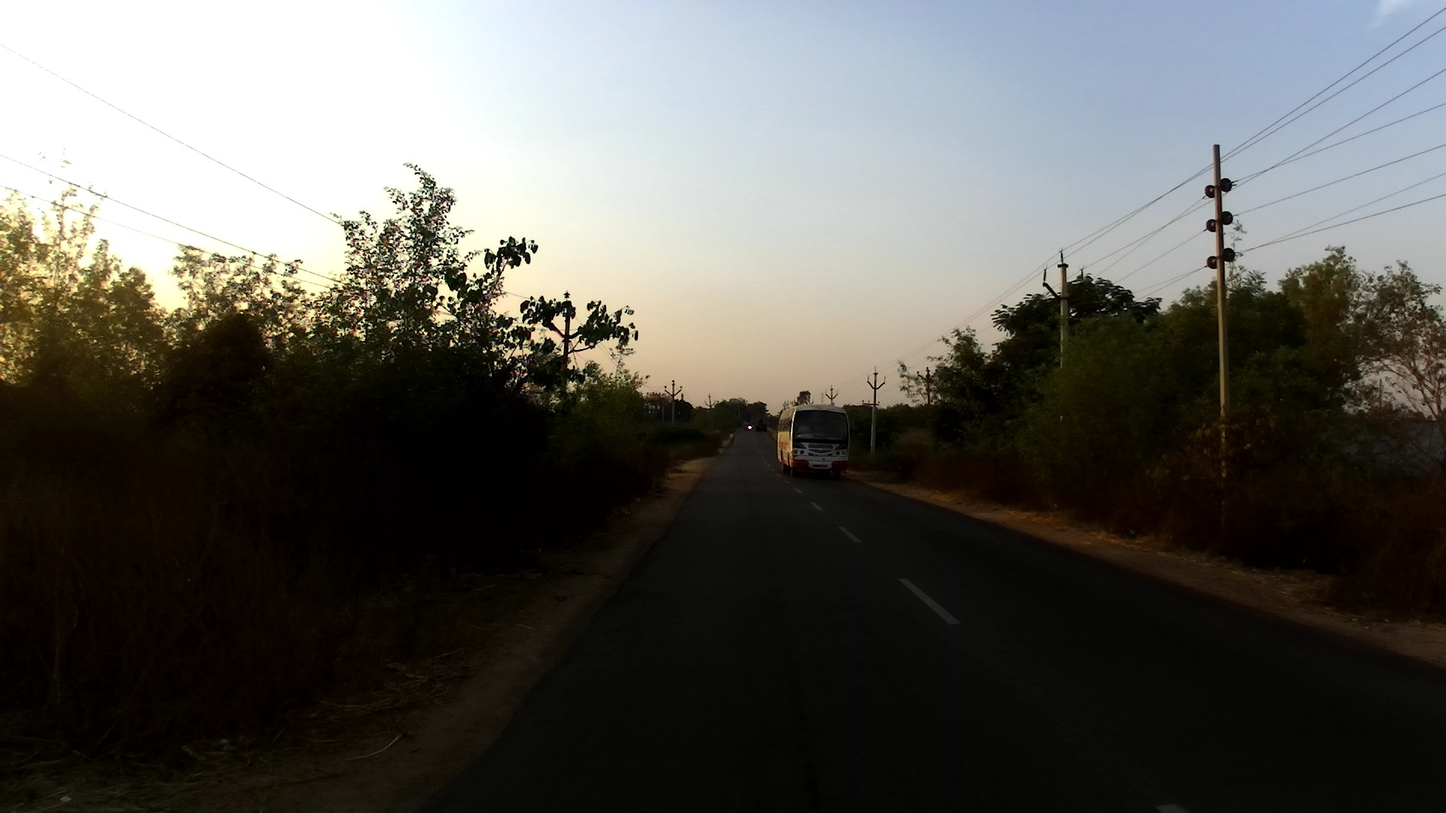bus: (776, 404, 853, 480)
car: (743, 424, 756, 434)
